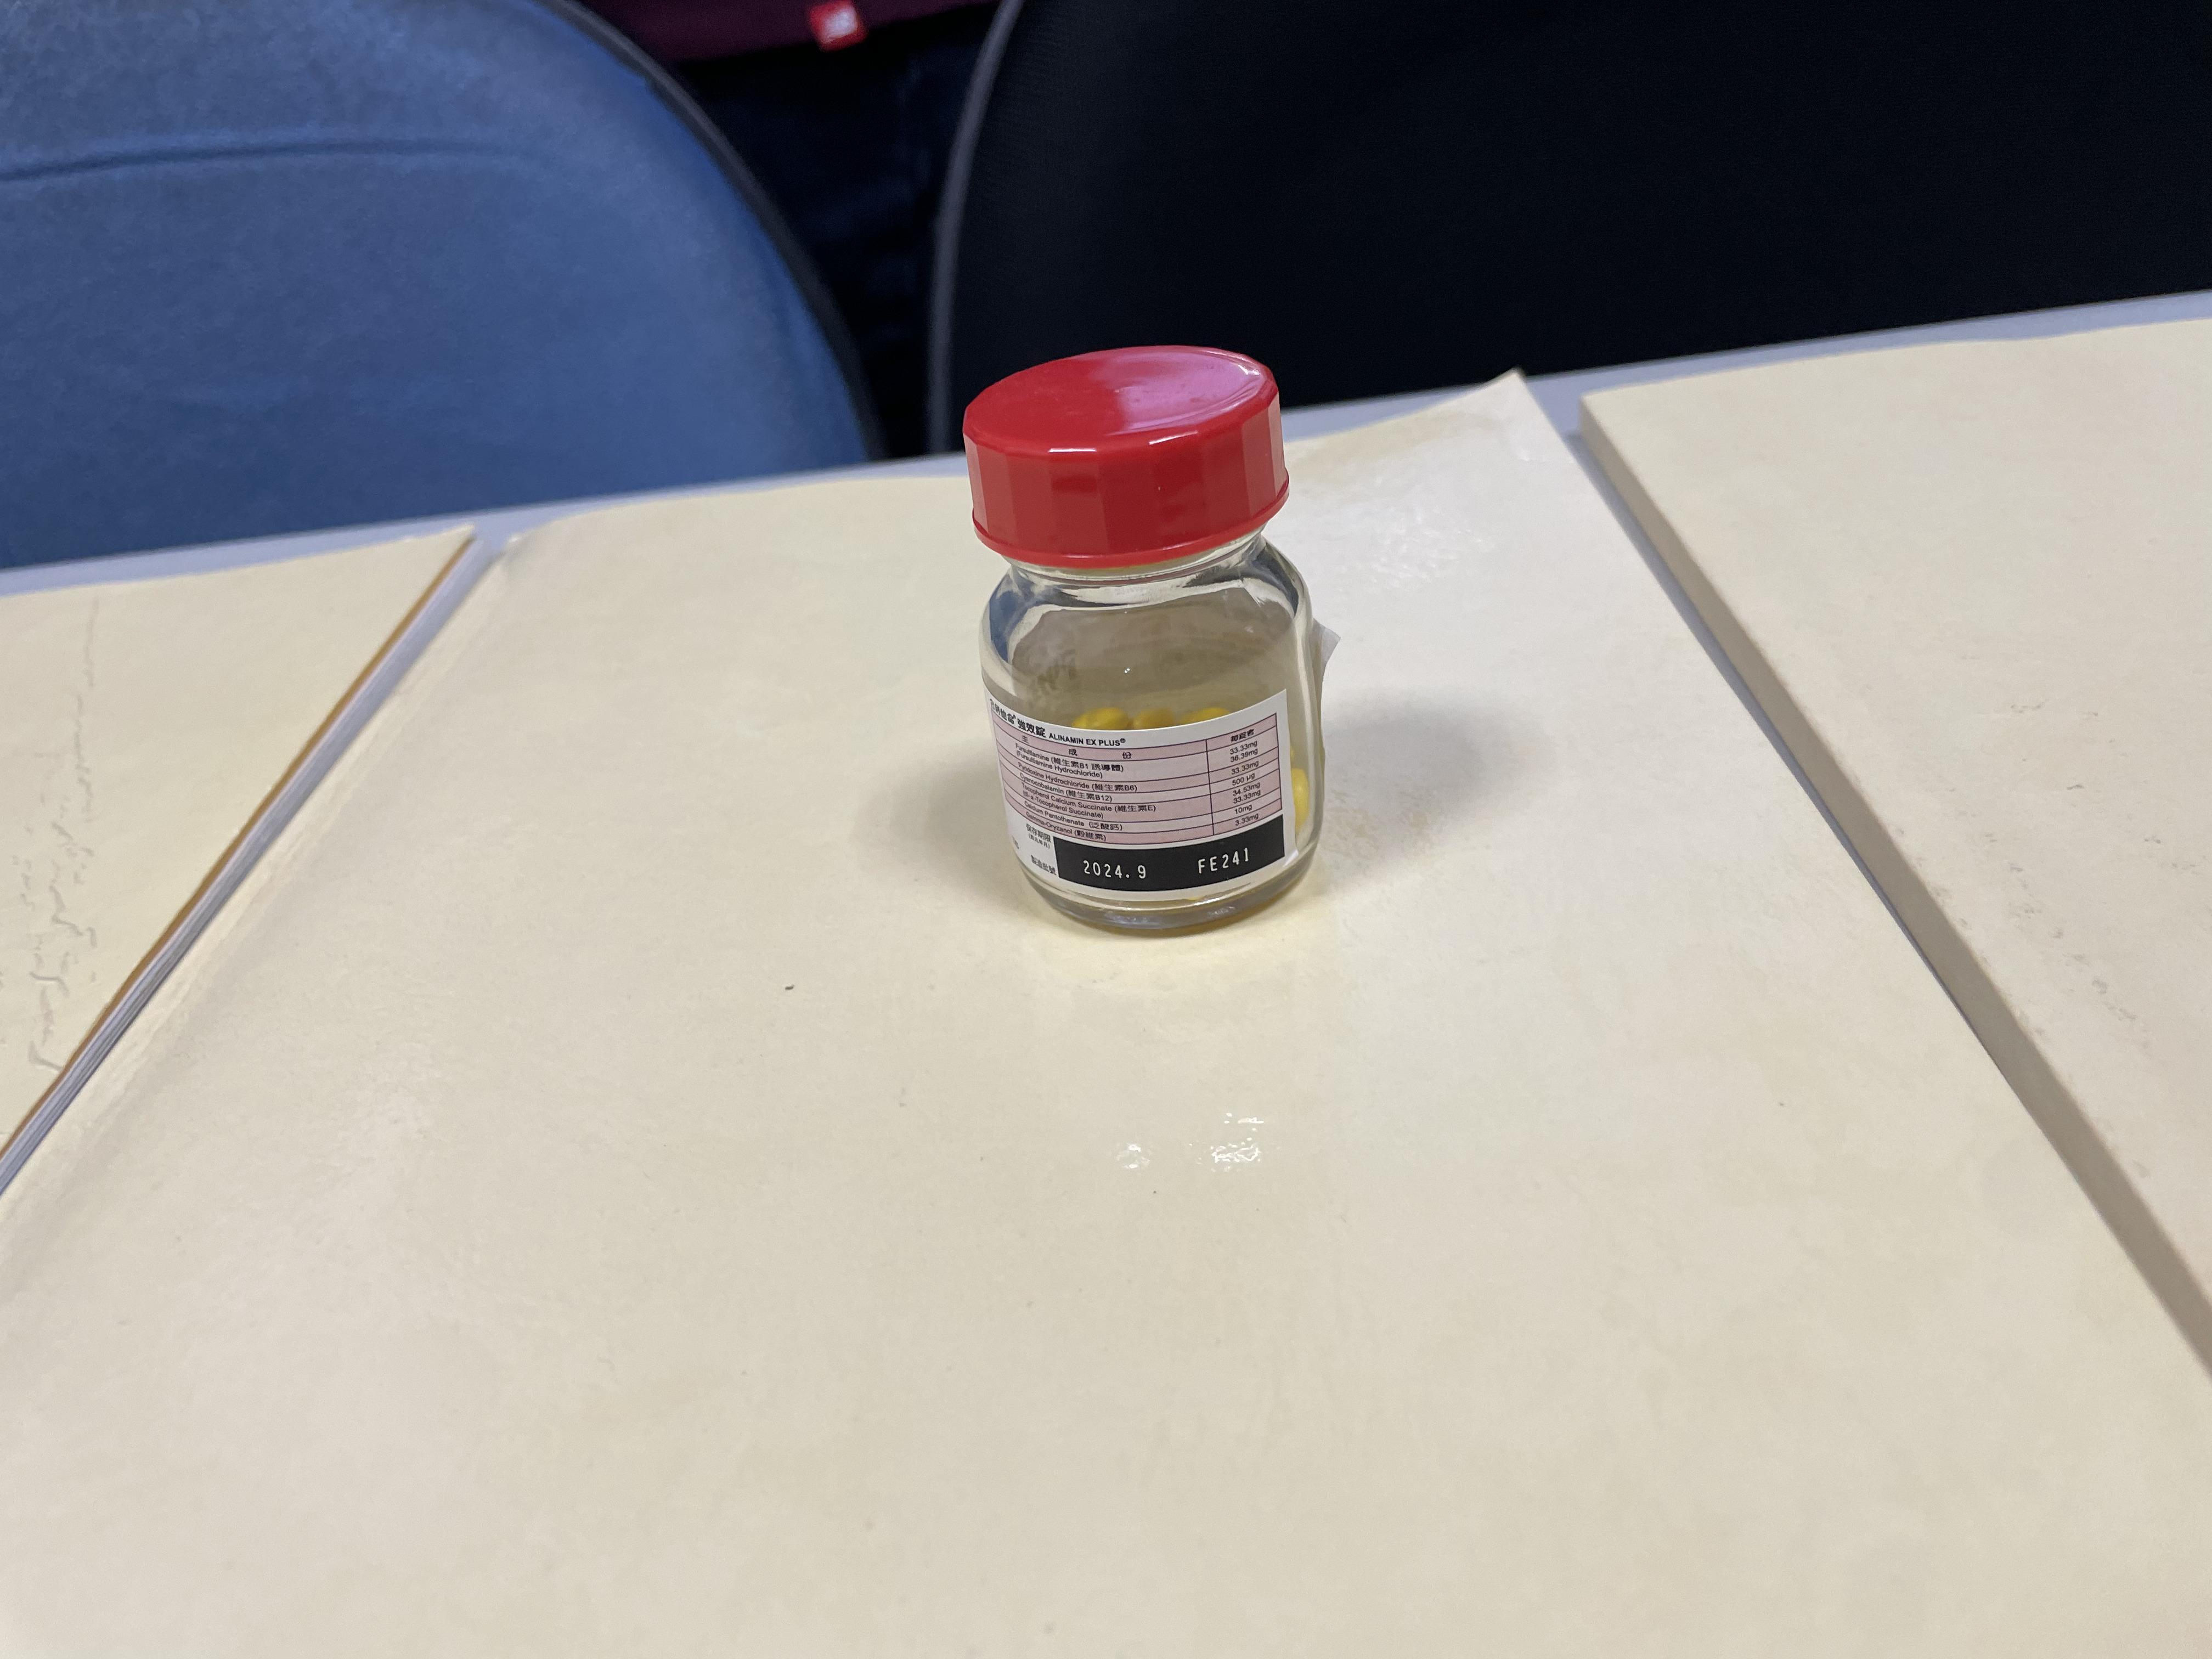jar: (902, 335, 1374, 950)
